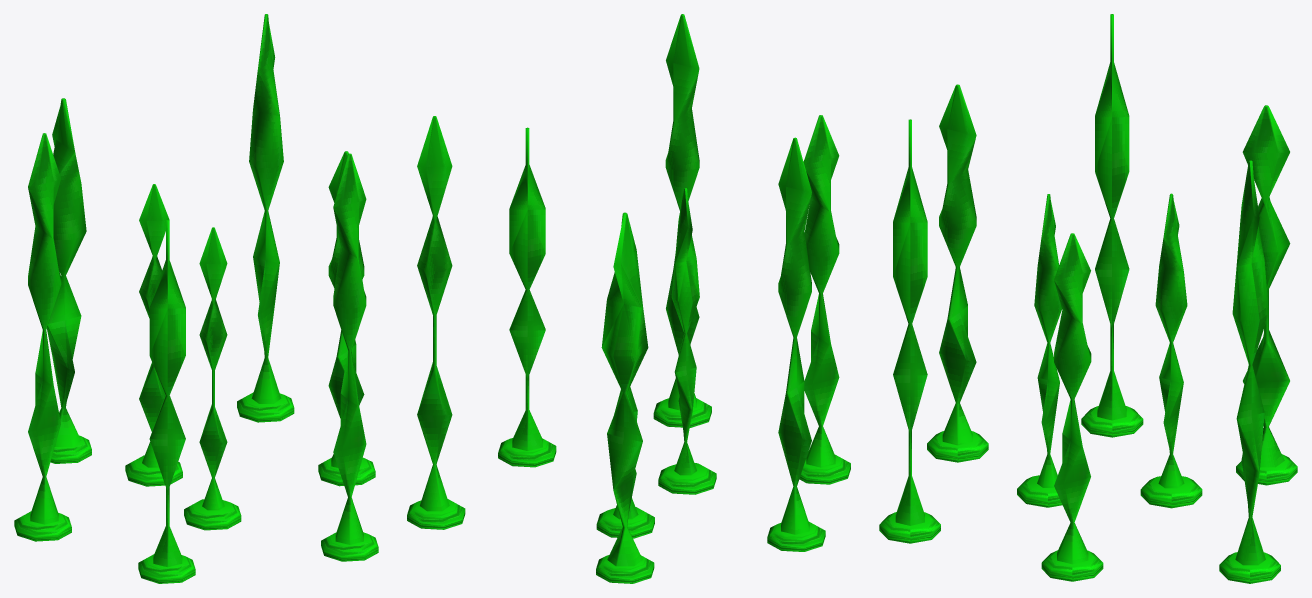
File: seaweedgate.obj
The picture shows the model from 3 angles, left to right: view 1: azimuth 30°, elevation 25°; view 2: azimuth 150°, elevation 25°; view 3: azimuth 270°, elevation 25°; orthographic projection. The views are drawn at different scales.
Visible parts, largest first — view 1: gate, base; view 2: gate, base; view 3: gate, base.
Boxes of the visible parts, <box> form: gate: <box>28,14,366,567</box>; base: <box>14,392,378,583</box>; gate: <box>417,14,839,566</box>; base: <box>407,398,850,583</box>; gate: <box>893,14,1290,565</box>; base: <box>879,406,1297,583</box>.
Bounding box in the file's own units: 0.8453 × 0.938 × 0.8667.
Materials: 1 (1 with a texture image).
